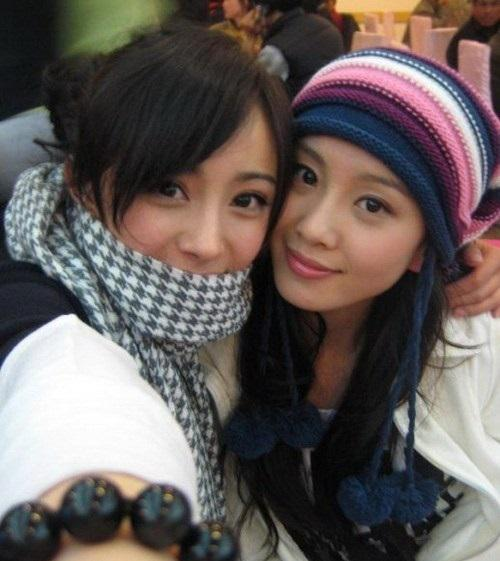NONE: (272, 142, 418, 308)
WRONG: (109, 149, 277, 319)
